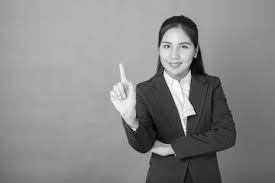pointing_gesture: (107, 63, 142, 120)
